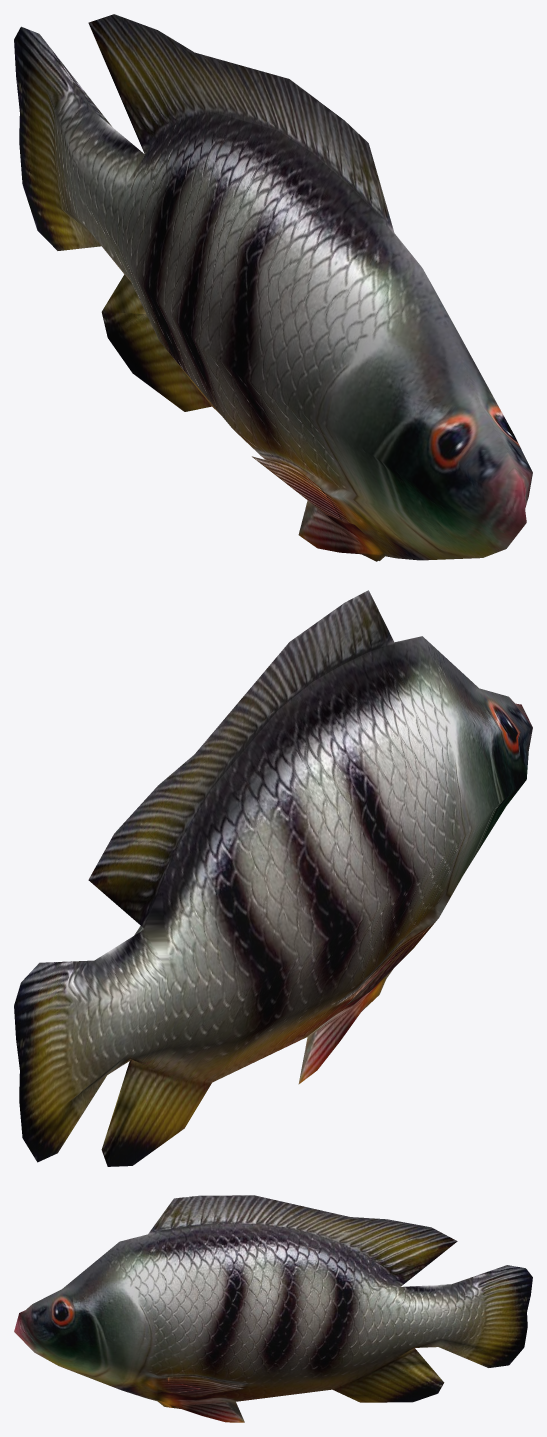
Rendered from Tilapia.fbx.
The picture shows the model from 3 angles, top to bottom: view 1: azimuth 30°, elevation 25°; view 2: azimuth 150°, elevation 25°; view 3: azimuth 270°, elevation 25°; orthographic projection. The views are drawn at different scales.
Visible parts, largest first — view 1: Plane; view 2: Plane; view 3: Plane.
Boxes of the visible parts, x1,y1,x2,y2 form: Plane: (14,14,532,561); Plane: (14,590,532,1166); Plane: (14,1195,532,1422).
Size of the model in its own units: 87.02 by 221 by 457.
